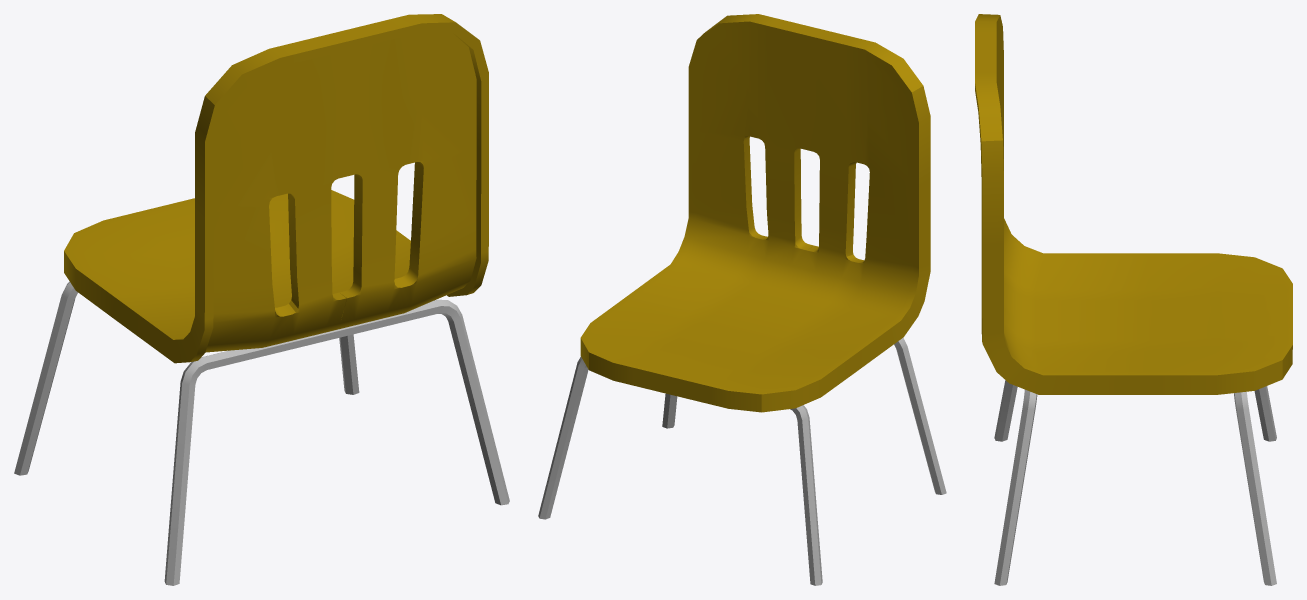
Rendered from Chair_Plastic_01.glb.
3 views of the same model, side by side, from view 1: azimuth 30°, elevation 25°; view 2: azimuth 150°, elevation 25°; view 3: azimuth 270°, elevation 25° (orthographic). The views are drawn at different scales.
Parts seen in each view (by area): view 1: Mesh_Chair_Plastic_01; view 2: Mesh_Chair_Plastic_01; view 3: Mesh_Chair_Plastic_01.
Part boxes in pixels (left/top/right/bottom): Mesh_Chair_Plastic_01: left=14, top=14, right=509, bottom=585; Mesh_Chair_Plastic_01: left=538, top=14, right=946, bottom=585; Mesh_Chair_Plastic_01: left=975, top=14, right=1292, bottom=585.
Bounding box in the file's own units: 0.5895 × 0.84 × 0.528.
1 material, 1 textured.
